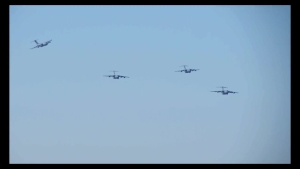flight: (209, 84, 239, 96), (103, 69, 130, 80), (174, 64, 201, 75), (30, 38, 54, 49)
